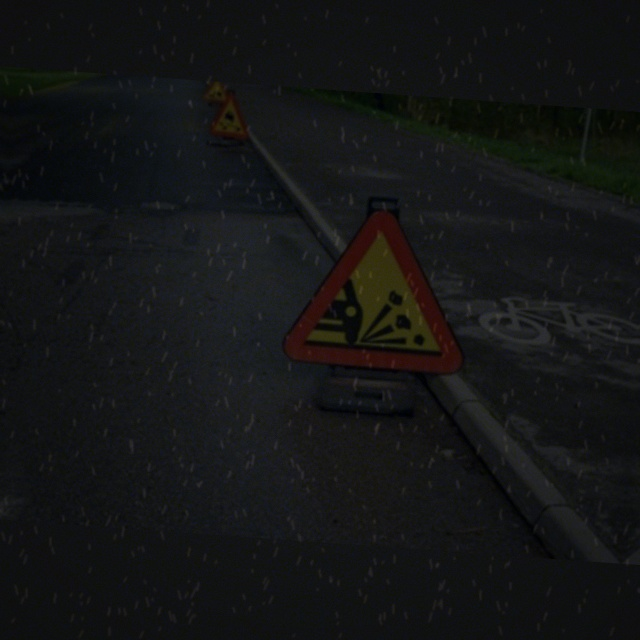Loose_Gravel: (294, 200, 467, 372)
